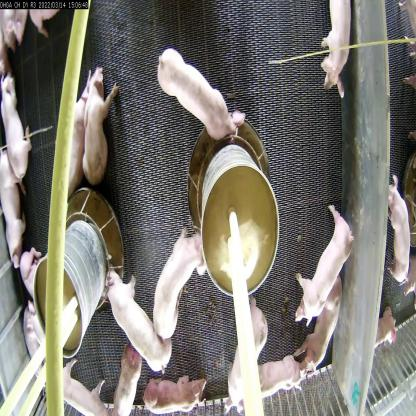Pig: (140, 38, 250, 159), (142, 211, 218, 356), (292, 198, 357, 334), (95, 267, 176, 367), (225, 302, 272, 416), (296, 298, 351, 386), (1, 140, 35, 281), (74, 61, 111, 175), (0, 63, 31, 189), (247, 348, 305, 413), (313, 0, 352, 90), (147, 375, 218, 415), (56, 363, 102, 416), (118, 332, 140, 396)
